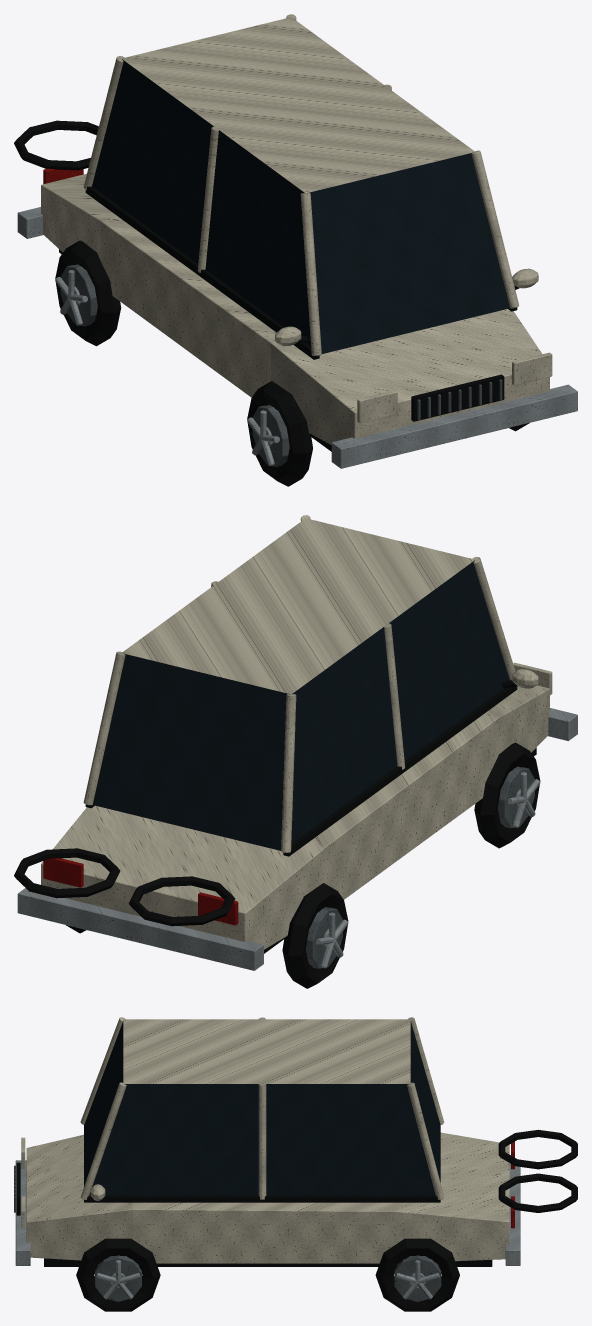
The model's file is PROP-418469EB72DB_lod1.glb.
3 views of the same model, one above another, from view 1: azimuth 30°, elevation 25°; view 2: azimuth 150°, elevation 25°; view 3: azimuth 270°, elevation 25° (orthographic). The views are drawn at different scales.
Visible parts, largest first — view 1: sloped_cabin_glazing.008, shaped_body_panels.010, roof_panel.008, bumper.010, tire.010, window_pillars.008, window_belt.008, rim.010, lamp_lenses.020, radiator_grille.010, rear_bicycle_wheels.001, rim_spokes.010 (+2 smaller); view 2: sloped_cabin_glazing.008, shaped_body_panels.010, roof_panel.008, bumper.010, tire.010, window_pillars.008, rear_bicycle_wheels.001, window_belt.008, rim.010, lamp_lenses.021, rim_spokes.010; view 3: sloped_cabin_glazing.008, shaped_body_panels.010, roof_panel.008, tire.010, window_pillars.008, window_belt.008, rear_bicycle_wheels.001, rim.010, bumper.010, chassis.010, rim_spokes.010.
Part boxes in pixels (left/top/right/bottom): sloped_cabin_glazing.008: left=92, top=59, right=509, bottom=353; shaped_body_panels.010: left=41, top=173, right=549, bottom=444; roof_panel.008: left=121, top=17, right=474, bottom=193; bumper.010: left=17, top=207, right=577, bottom=468; tire.010: left=55, top=240, right=529, bottom=486; window_pillars.008: left=83, top=14, right=519, bottom=355; window_belt.008: left=85, top=186, right=517, bottom=359; rim.010: left=60, top=264, right=289, bottom=466; lamp_lenses.020: left=357, top=352, right=552, bottom=423; radiator_grille.010: left=411, top=374, right=504, bottom=421; rear_bicycle_wheels.001: left=14, top=120, right=98, bottom=170; rim_spokes.010: left=55, top=270, right=279, bottom=465; sloped_cabin_glazing.008: left=93, top=560, right=509, bottom=850; shaped_body_panels.010: left=41, top=685, right=549, bottom=949; roof_panel.008: left=122, top=518, right=474, bottom=694; bumper.010: left=17, top=708, right=577, bottom=970; tire.010: left=66, top=742, right=540, bottom=988; window_pillars.008: left=83, top=515, right=516, bottom=852; rear_bicycle_wheels.001: left=14, top=848, right=235, bottom=926; window_belt.008: left=85, top=686, right=517, bottom=856; rim.010: left=305, top=766, right=534, bottom=968; lamp_lenses.021: left=43, top=858, right=238, bottom=925; rim_spokes.010: left=315, top=772, right=540, bottom=968; sloped_cabin_glazing.008: left=84, top=1020, right=440, bottom=1195; shaped_body_panels.010: left=26, top=1132, right=509, bottom=1263; roof_panel.008: left=123, top=1019, right=410, bottom=1083; tire.010: left=76, top=1238, right=459, bottom=1311; window_pillars.008: left=80, top=1017, right=444, bottom=1199; window_belt.008: left=84, top=1195, right=440, bottom=1202; rear_bicycle_wheels.001: left=498, top=1129, right=577, bottom=1212; rim.010: left=95, top=1255, right=441, bottom=1301; bumper.010: left=15, top=1160, right=520, bottom=1265; chassis.010: left=44, top=1258, right=492, bottom=1266; rim_spokes.010: left=96, top=1260, right=439, bottom=1299.
Bounding box in the file's own units: 2.09 × 2.09 × 4.9.
7 materials, 7 textured.
